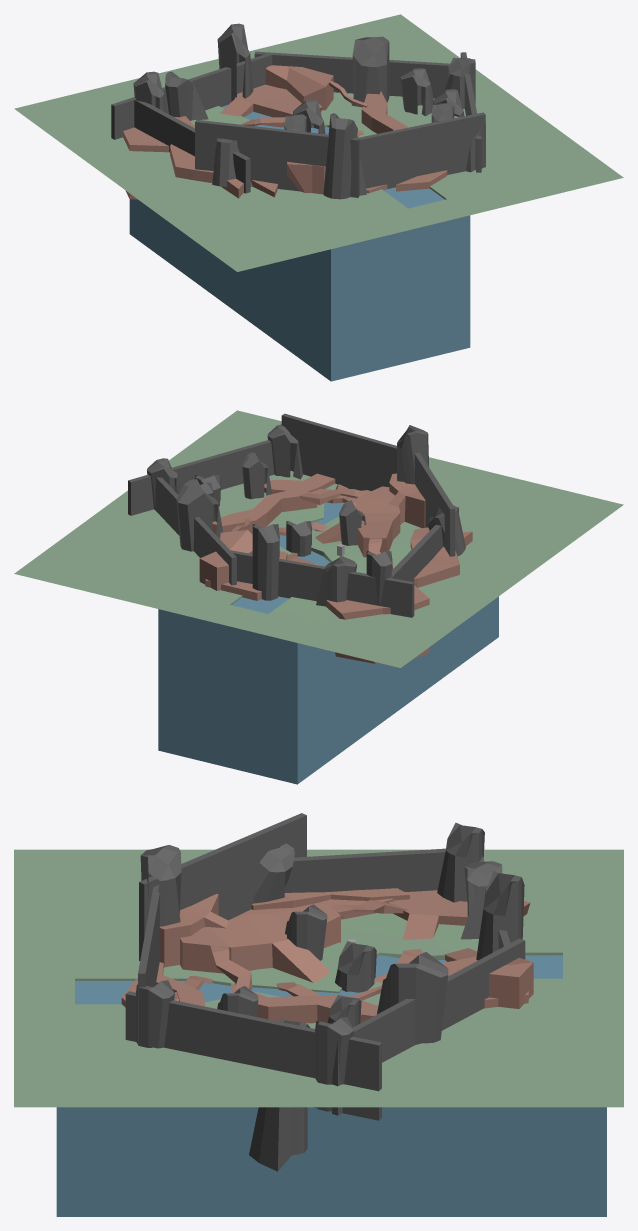
File: TestMap.fbx
3 views of the same model, one above another, from view 1: azimuth 30°, elevation 25°; view 2: azimuth 150°, elevation 25°; view 3: azimuth 270°, elevation 25° (orthographic). The views are drawn at different scales.
Parts seen in each view (by area): view 1: pPlane1, WaterBich, pCube6, pCube7, pCube4, pCube3, pCube2, pCube36, pCube13, pCube9, pCube8, pCube33 (+12 smaller); view 2: pPlane1, WaterBich, pCube6, pCube3, pCube5, pCube10, pCube4, pCube13, pCube33, pCube11, pCube7, pCube9 (+16 smaller); view 3: pPlane1, WaterBich, pCube5, pCube7, pCube10, pCube2, pCube4, pCube13, pCube23, pCube33, pCube16, pCube27 (+19 smaller).
Part boxes in pixels (x1=…): pPlane1: x1=14, y1=14, x2=623, y2=271; WaterBich: x1=129, y1=104, x2=470, y2=381; pCube6: x1=358, y1=112, x2=485, y2=188; pCube7: x1=195, y1=120, x2=359, y2=197; pCube4: x1=254, y1=51, x2=449, y2=98; pCube3: x1=111, y1=53, x2=273, y2=139; pCube2: x1=133, y1=98, x2=250, y2=193; pCube36: x1=323, y1=113, x2=366, y2=199; pCube13: x1=351, y1=36, x2=389, y2=106; pCube9: x1=265, y1=65, x2=333, y2=110; pCube8: x1=220, y1=84, x2=322, y2=117; pCube33: x1=217, y1=23, x2=253, y2=101; pPlane1: x1=14, y1=410, x2=623, y2=667; WaterBich: x1=158, y1=502, x2=498, y2=784; pCube6: x1=281, y1=413, x2=396, y2=490; pCube3: x1=226, y1=550, x2=414, y2=617; pCube5: x1=128, y1=440, x2=274, y2=515; pCube10: x1=315, y1=486, x2=400, y2=557; pCube4: x1=155, y1=477, x2=236, y2=585; pCube13: x1=176, y1=478, x2=223, y2=551; pCube33: x1=252, y1=524, x2=279, y2=600; pCube11: x1=212, y1=488, x2=317, y2=534; pCube7: x1=414, y1=452, x2=455, y2=556; pCube9: x1=199, y1=530, x2=252, y2=590; pPlane1: x1=14, y1=849, x2=623, y2=1107; WaterBich: x1=56, y1=955, x2=606, y2=1216; pCube5: x1=125, y1=991, x2=381, y2=1120; pCube7: x1=139, y1=813, x2=306, y2=960; pCube10: x1=180, y1=904, x2=340, y2=982; pCube2: x1=284, y1=848, x2=445, y2=892; pCube4: x1=332, y1=938, x2=525, y2=1115; pCube13: x1=377, y1=951, x2=448, y2=1044; pCube23: x1=249, y1=1018, x2=310, y2=1171; pCube33: x1=476, y1=870, x2=524, y2=960; pCube16: x1=388, y1=890, x2=530, y2=939; pCube27: x1=437, y1=822, x2=484, y2=902.
Bounding box in the file's own units: 80.68 × 44.73 × 80.68.
